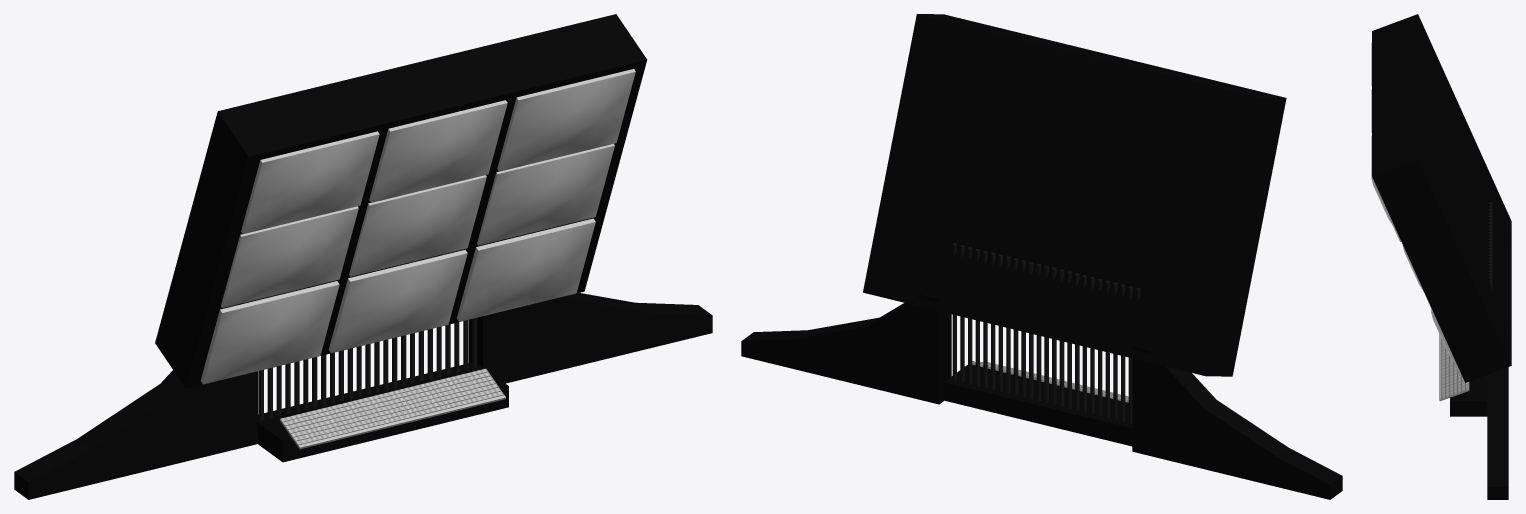
Rendered from desktop.obj.
The picture shows the model from 3 angles, left to right: view 1: azimuth 30°, elevation 25°; view 2: azimuth 150°, elevation 25°; view 3: azimuth 270°, elevation 25°; orthographic projection. The views are drawn at different scales.
Parts seen in each view (by area): view 1: Box003, Box014, Box013, Box010, Box012, Box011, Box004, Box005, Box006, Box007, Box009, Box008 (+2 smaller); view 2: Box003, Box014, Box013, Box001; view 3: Box003, Box013, Box001, Box002, Box012, Box006.
Boxes of the visible parts, x1,y1,x2,y2 form: Box003: (155, 14, 647, 388); Box014: (14, 370, 258, 499); Box013: (468, 293, 712, 383); Box010: (200, 281, 339, 384); Box012: (457, 218, 595, 321); Box011: (328, 250, 467, 353); Box004: (241, 131, 379, 234); Box005: (369, 100, 507, 202); Box006: (497, 69, 635, 171); Box007: (221, 206, 358, 307); Box009: (477, 144, 614, 245); Box008: (349, 175, 486, 276); Box003: (863, 14, 1286, 376); Box014: (1132, 345, 1342, 499); Box013: (741, 294, 951, 404); Box001: (944, 361, 1132, 446); Box003: (1372, 14, 1511, 382); Box013: (1487, 325, 1508, 499); Box001: (1450, 375, 1487, 416); Box002: (1439, 333, 1469, 401); Box012: (1431, 308, 1461, 375); Box006: (1371, 135, 1401, 241).
Size of what is drawn, in the model's own units: 308 by 167 by 73.27.
4 materials, 1 textured.
